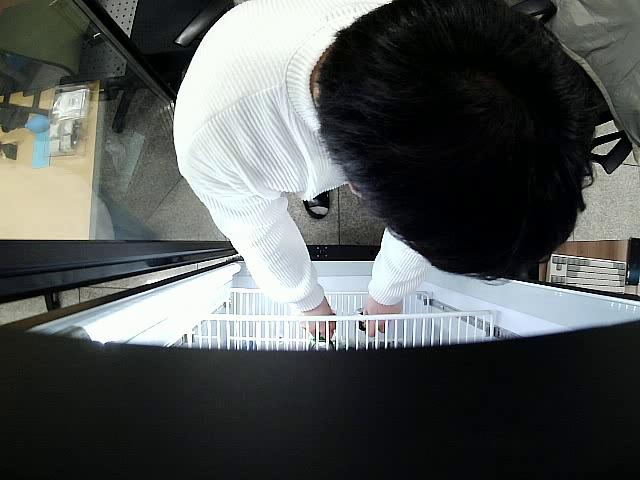00_hand: (364, 297, 403, 336), (301, 301, 337, 339)
